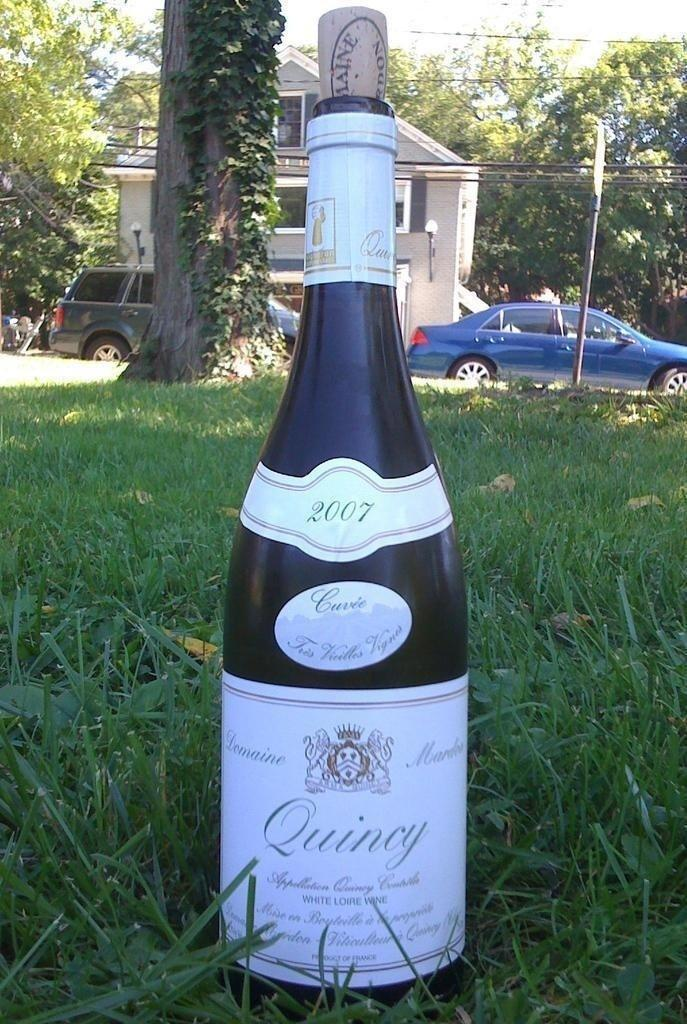bottle-glass: (209, 4, 480, 1001)
